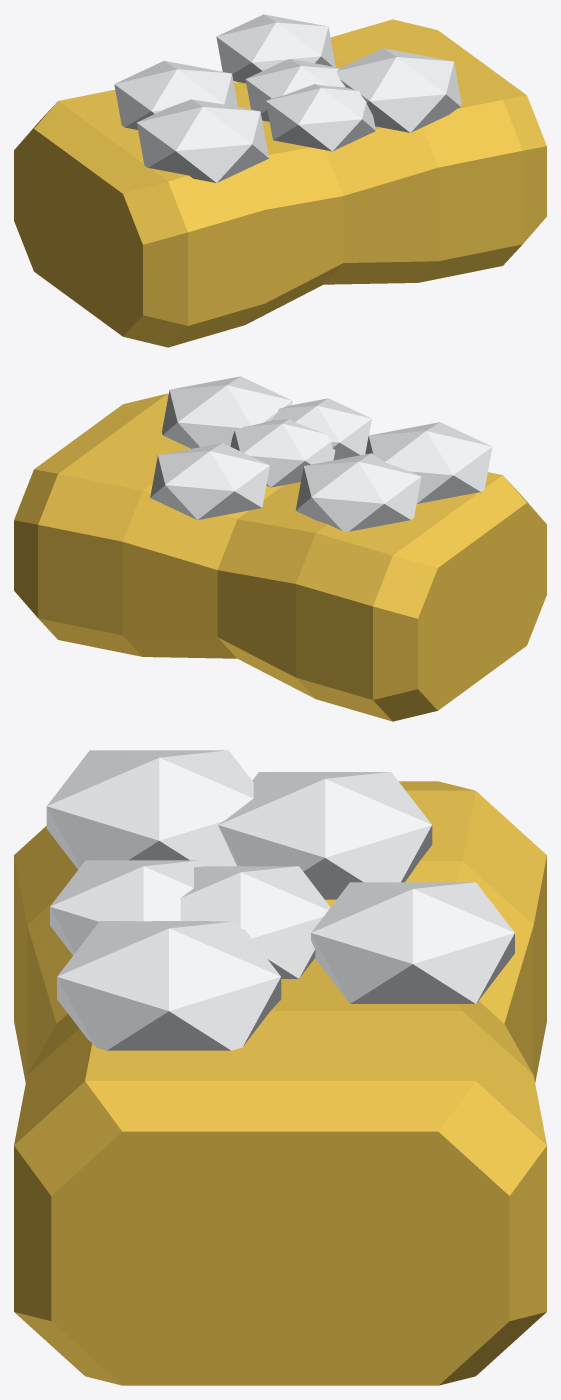
The model's file is Sponge.fbx.
3 renders of one model, top to bottom at view 1: azimuth 30°, elevation 25°; view 2: azimuth 150°, elevation 25°; view 3: azimuth 270°, elevation 25°, orthographic. The views are drawn at different scales.
Visible parts, largest first — view 1: Sponge, SpongeFoam; view 2: Sponge, SpongeFoam; view 3: Sponge, SpongeFoam.
Boxes of the visible parts, bbox=[...] form: Sponge: bbox=[14, 19, 546, 347]; SpongeFoam: bbox=[114, 14, 461, 182]; Sponge: bbox=[14, 393, 546, 721]; SpongeFoam: bbox=[150, 376, 492, 531]; Sponge: bbox=[14, 781, 546, 1385]; SpongeFoam: bbox=[46, 750, 514, 1050].
Size of the model in its own units: 0.14 by 0.0702 by 0.09.
